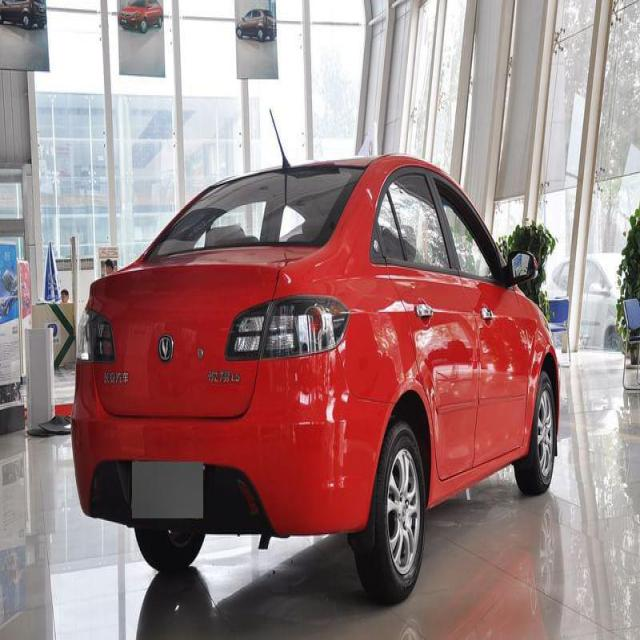back_glass: (139, 164, 363, 266)
back_left_side_light: (73, 299, 119, 369)
back_right_side_light: (223, 291, 351, 366)
door: (373, 165, 478, 471)
front_right_side_door: (426, 160, 533, 472)
front_right_side_mirror: (506, 245, 538, 288)
rear_bumper: (70, 348, 394, 538)
wheel: (361, 422, 428, 603), (514, 370, 556, 492)
